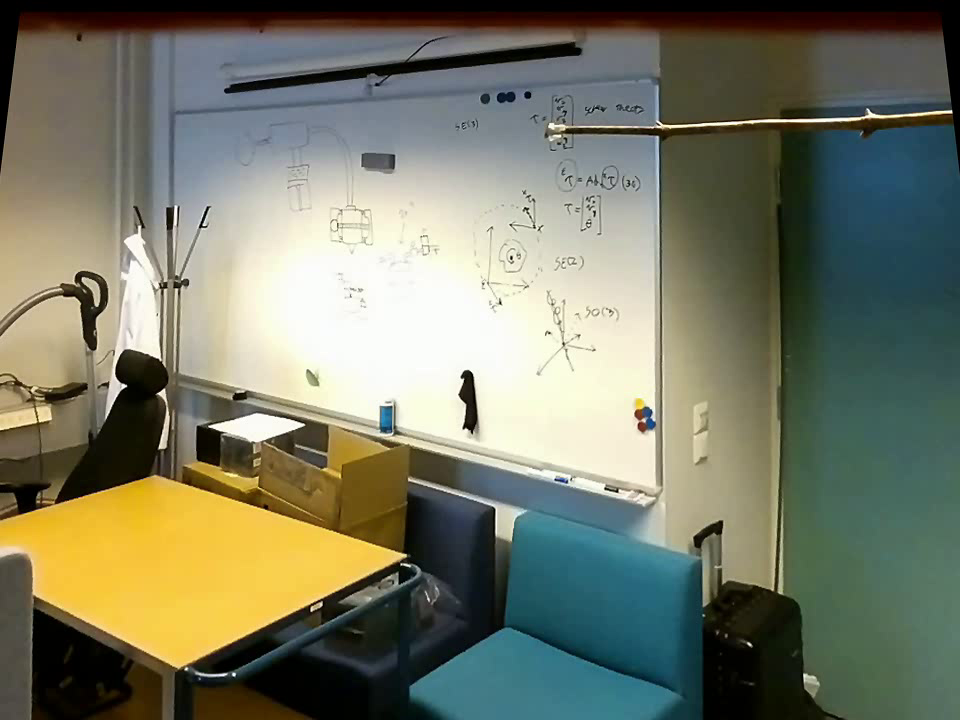aluminum_frame: (181, 367, 665, 509), (167, 69, 662, 122), (646, 71, 670, 495), (159, 101, 181, 205)
branch: (572, 98, 946, 145)
